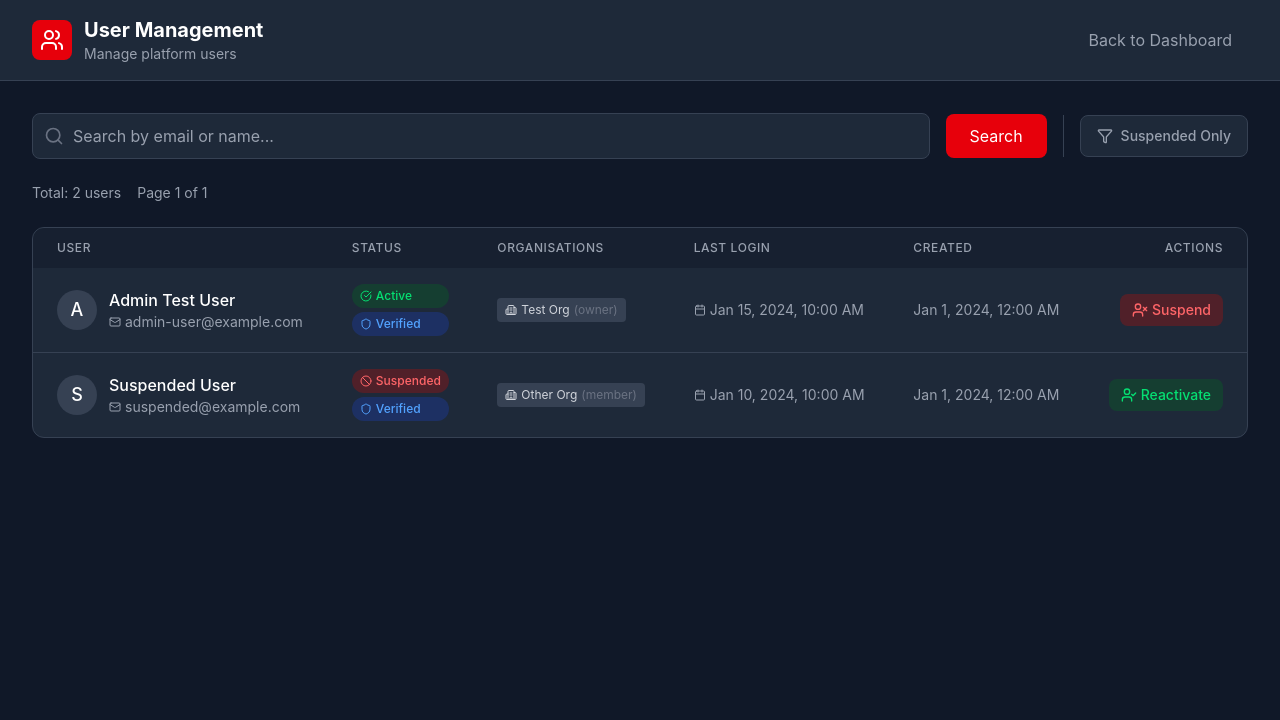
Scenario: AdminUsers › suspend action › should open suspend modal when suspend button is clicked
Expected: the text "Admin Test User" is shown, [109, 290, 235, 310]
Find the suspend button for the active user
Click the button "Suspend" at [1172, 310], box [1120, 294, 1223, 326]
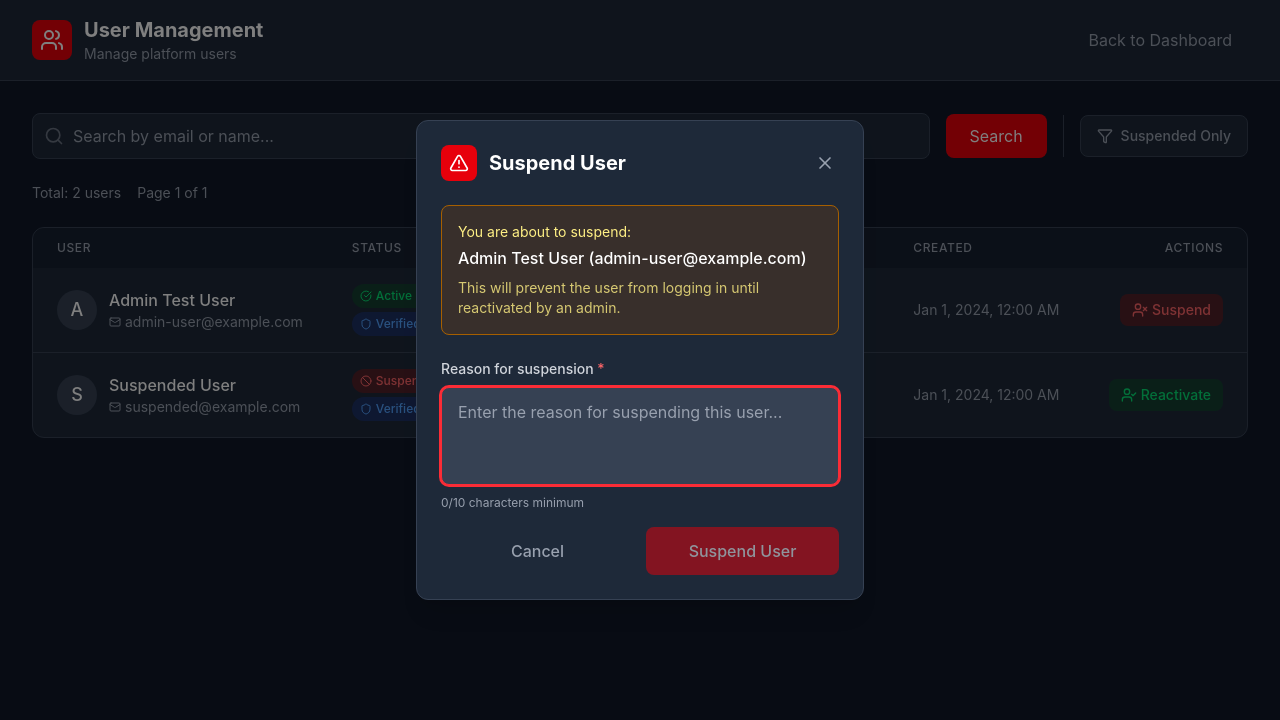
Now the heading "Suspend User" is shown, box [489, 149, 626, 177]
